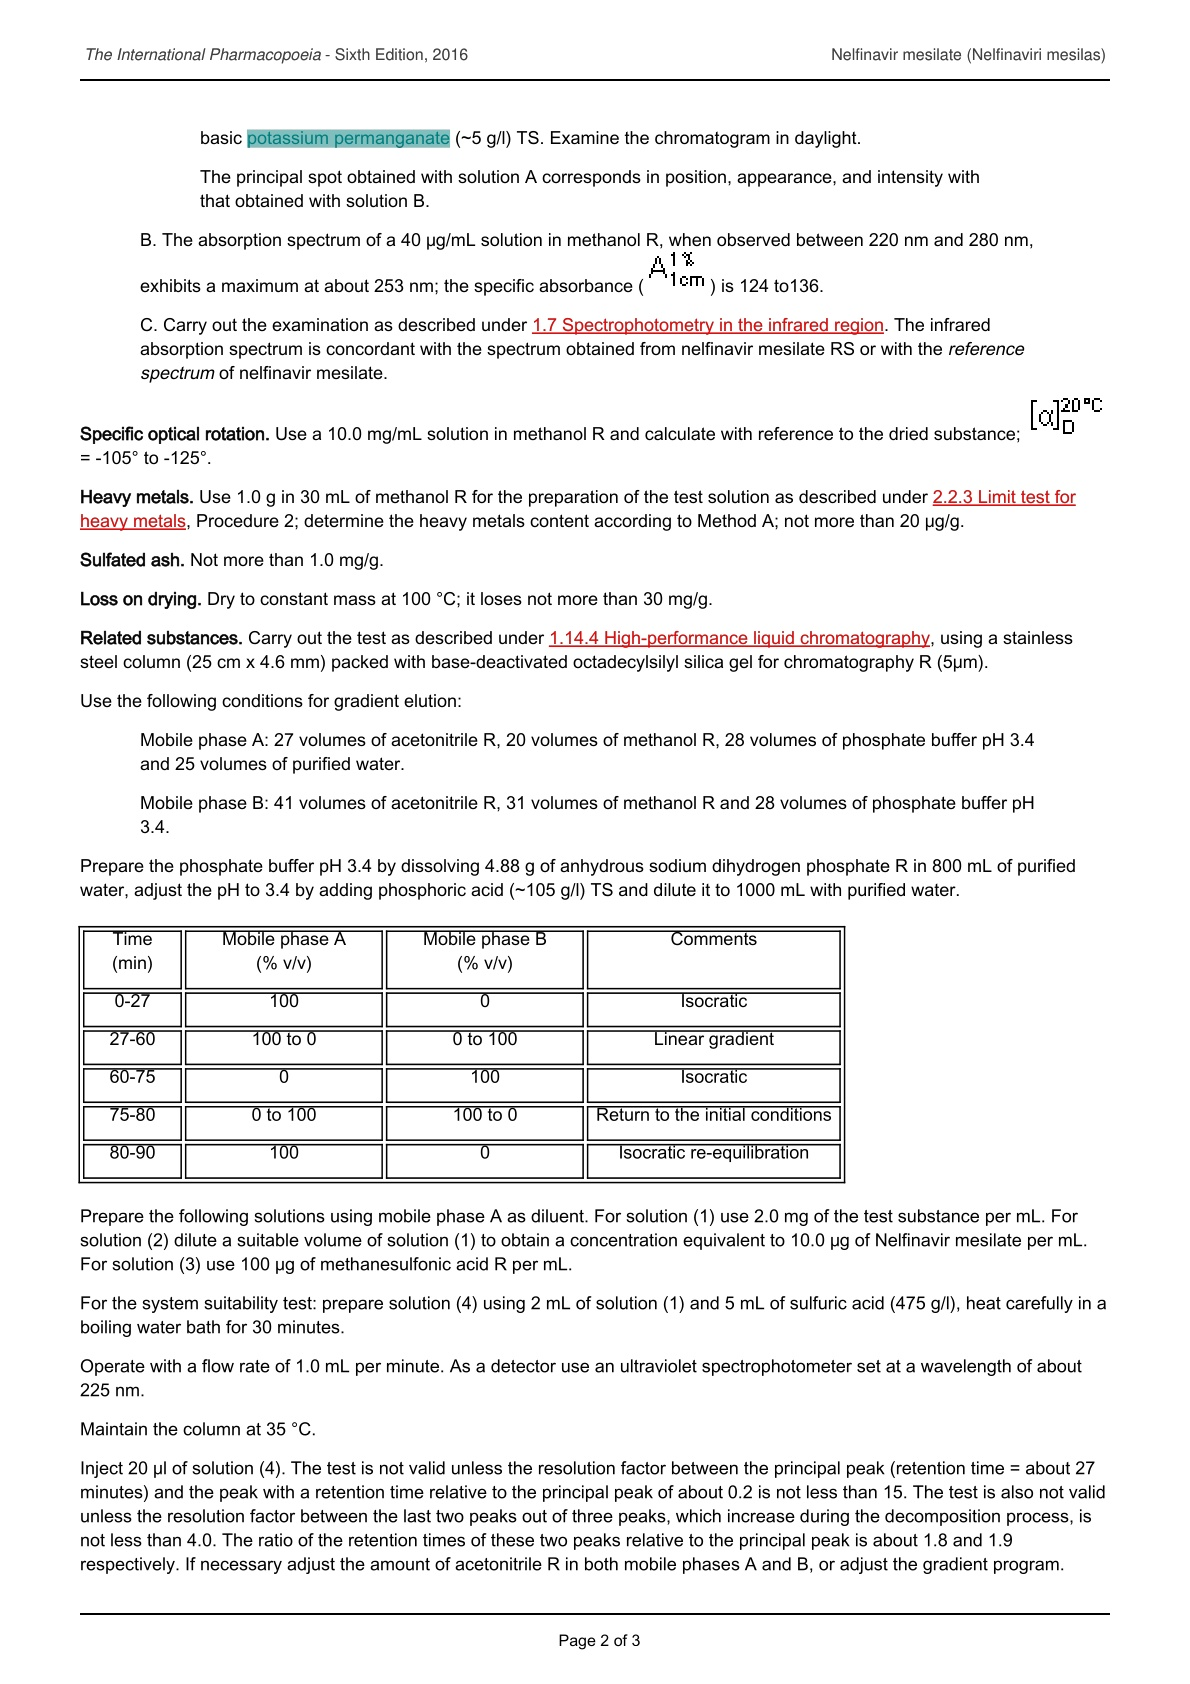full_lined: (77, 924, 846, 1184)
